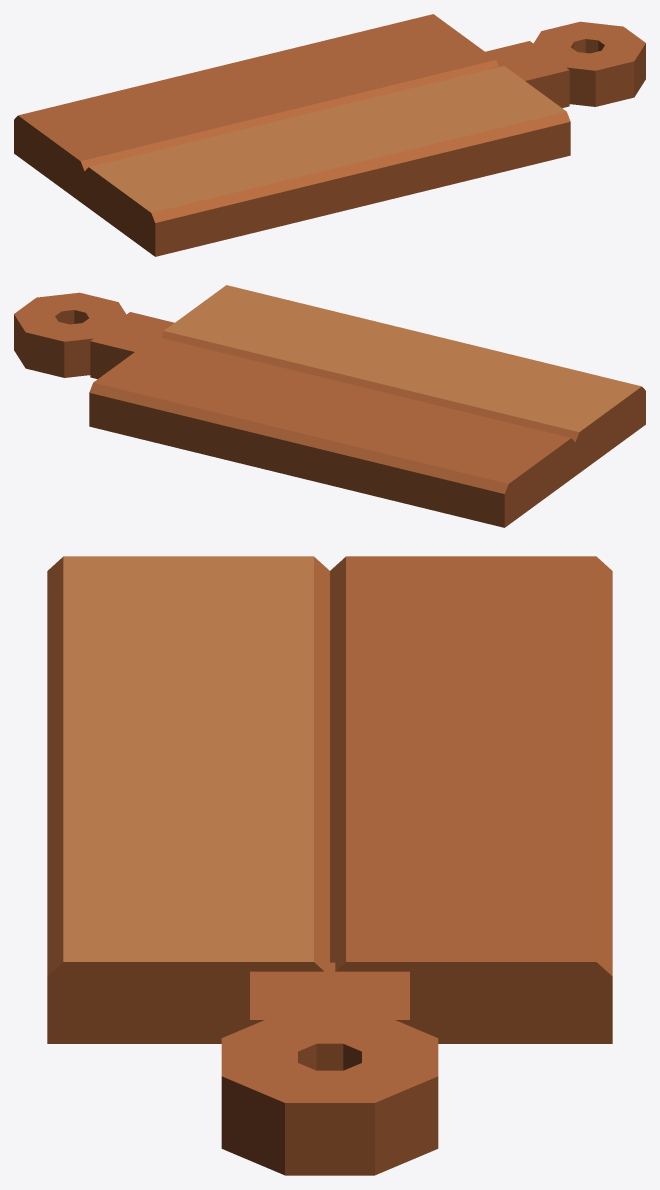
File: FMS_Food_Cutting_Board.fbx
3 views of the same model, one above another, from view 1: azimuth 30°, elevation 25°; view 2: azimuth 150°, elevation 25°; view 3: azimuth 270°, elevation 25° (orthographic). The views are drawn at different scales.
Visible parts, largest first — view 1: item_food_cutting_board; view 2: item_food_cutting_board; view 3: item_food_cutting_board.
Part boxes in pixels (x1,y1,x2,y2): item_food_cutting_board: (14,14,645,256); item_food_cutting_board: (14,285,645,527); item_food_cutting_board: (47,556,612,1175).
Bounding box in the file's own units: 0.4767 × 0.034 × 0.212.
Materials: 1 (1 with a texture image).
